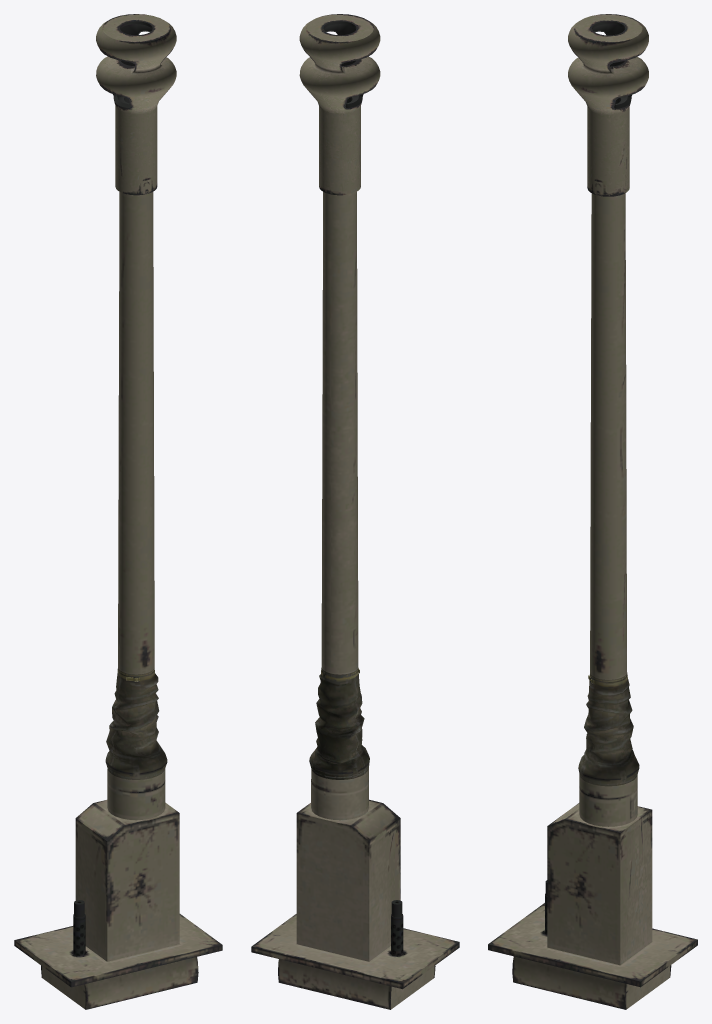
Rendered from Gun_06.glb.
3 renders of one model, left to right at view 1: azimuth 30°, elevation 25°; view 2: azimuth 150°, elevation 25°; view 3: azimuth 330°, elevation 25°, orthographic.
Parts seen in each view (by area): view 1: set_0_group_0; view 2: set_0_group_0; view 3: set_0_group_0.
Part boxes in pixels (x1=…): set_0_group_0: x1=14, y1=14, x2=222, y2=1009; set_0_group_0: x1=251, y1=14, x2=459, y2=1009; set_0_group_0: x1=488, y1=14, x2=697, y2=1009.
Size of the model in its own units: 0.69 by 4.13 by 0.449.
1 material, 1 textured.
